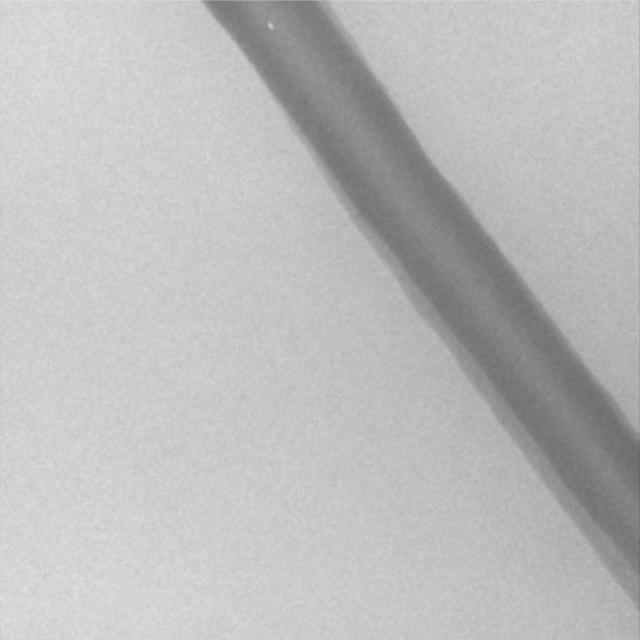air hole: (266, 21, 273, 31)
